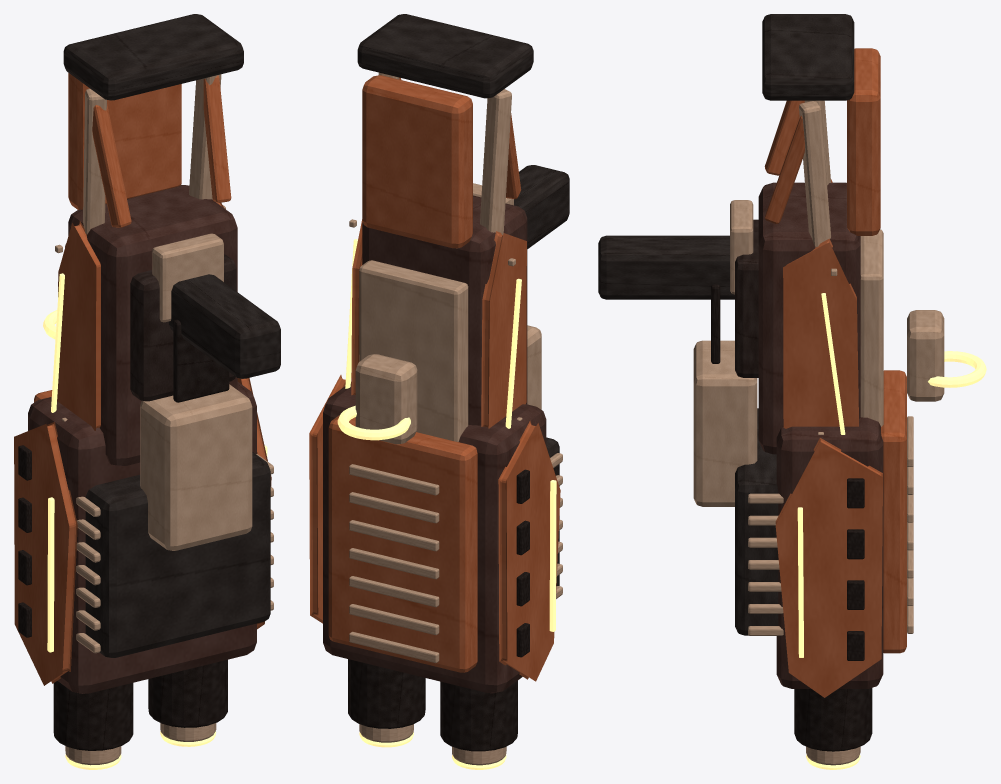
File: aether-w12-midnight.glb
3 views of the same model, side by side, from view 1: azimuth 30°, elevation 25°; view 2: azimuth 150°, elevation 25°; view 3: azimuth 270°, elevation 25° (orthographic). The views are drawn at different scales.
Parts seen in each view (by area): view 1: W12 / broad rugged pump sleeve, W12 / underbody plasma unit, 01 / central monocoque, W12 / heavy armor shroud, W12 / aggressive twin cheek armor -1, W12 / thick recoil pad art, W12 / rear shoulder crown, 04 / pistol grip, 06 / sculpted receiver cheek-1, 03 / matte lower receiver, W12 / twin front port -1, W12 / twin front port 1 (+10 smaller); view 2: W12 / heatshield upper armor, W12 / rear shoulder crown, 02 / receiver crown, W12 / heavy armor shroud, W12 / aggressive twin cheek armor -1, W12 / thick recoil pad art, 01 / central monocoque, 06 / sculpted receiver cheek-1, W12 / twin front port -1, W12 / chunky sight, W12 / twin front port 1, W12 / stock side truss -1 (+18 smaller); view 3: W12 / aggressive twin cheek armor 1, 06 / sculpted receiver cheek1, 01 / central monocoque, W12 / underbody plasma unit, 04 / pistol grip, W12 / thick recoil pad art, W12 / heatshield upper armor, W12 / heavy armor shroud, W12 / rear shoulder crown, W12 / broad rugged pump sleeve, W12 / twin front port 1, 02 / receiver crown (+11 smaller).
Boxes of the visible parts, left/top/right/bottom form: W12 / broad rugged pump sleeve: left=85, top=452, right=270, bottom=657; W12 / underbody plasma unit: left=140, top=384, right=252, bottom=550; 01 / central monocoque: left=68, top=185, right=237, bottom=466; W12 / heavy armor shroud: left=28, top=382, right=256, bottom=693; W12 / aggressive twin cheek armor -1: left=14, top=422, right=77, bottom=685; W12 / thick recoil pad art: left=63, top=14, right=243, bottom=100; W12 / rear shoulder crown: left=68, top=73, right=181, bottom=209; 04 / pistol grip: left=169, top=274, right=280, bottom=378; 06 / sculpted receiver cheek-1: left=57, top=221, right=100, bottom=430; 03 / matte lower receiver: left=130, top=254, right=236, bottom=401; W12 / twin front port -1: left=53, top=681, right=133, bottom=750; W12 / twin front port 1: left=148, top=659, right=227, bottom=727; W12 / heatshield upper armor: left=328, top=415, right=477, bottom=672; W12 / rear shoulder crown: left=362, top=75, right=472, bottom=248; 02 / receiver crown: left=359, top=260, right=468, bottom=441; W12 / heavy armor shroud: left=323, top=382, right=546, bottom=693; W12 / aggressive twin cheek armor -1: left=498, top=420, right=560, bottom=681; W12 / thick recoil pad art: left=357, top=14, right=533, bottom=98; 01 / central monocoque: left=362, top=195, right=527, bottom=425; 06 / sculpted receiver cheek-1: left=481, top=231, right=526, bottom=428; W12 / twin front port -1: left=440, top=680, right=517, bottom=751; W12 / chunky sight: left=355, top=354, right=417, bottom=444; W12 / twin front port 1: left=348, top=659, right=425, bottom=728; W12 / stock side truss -1: left=480, top=89, right=511, bottom=234; W12 / aggressive twin cheek armor 1: left=775, top=438, right=882, bottom=697; 06 / sculpted receiver cheek1: left=783, top=238, right=858, bottom=428; 01 / central monocoque: left=758, top=182, right=860, bottom=454; W12 / underbody plasma unit: left=693, top=340, right=757, bottom=506; 04 / pistol grip: left=598, top=235, right=734, bottom=299; W12 / thick recoil pad art: left=762, top=14, right=854, bottom=100; W12 / heatshield upper armor: left=881, top=370, right=906, bottom=653; W12 / heavy armor shroud: left=776, top=417, right=883, bottom=688; W12 / rear shoulder crown: left=847, top=48, right=880, bottom=235; W12 / broad rugged pump sleeve: left=735, top=408, right=778, bottom=635; W12 / twin front port 1: left=794, top=688, right=872, bottom=751; 02 / receiver crown: left=860, top=229, right=883, bottom=426.
Bounding box in the file's own units: 0.652 × 2.04 × 1.04.
7 materials, 7 textured.
